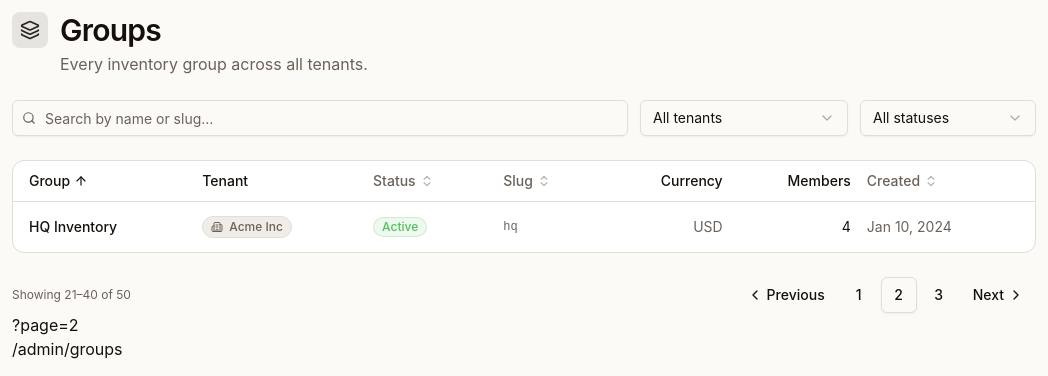
it: AdminGroupsPage › clears the search via the clear button, dropping ?q and ?page from the URL
Expected: the text "HQ Inventory" is shown, [29,218,117,234]
Type "warehouse" into the field with test id "admin-groups-search".
click(320, 118); type("warehouse")  # box [12,100,628,136]
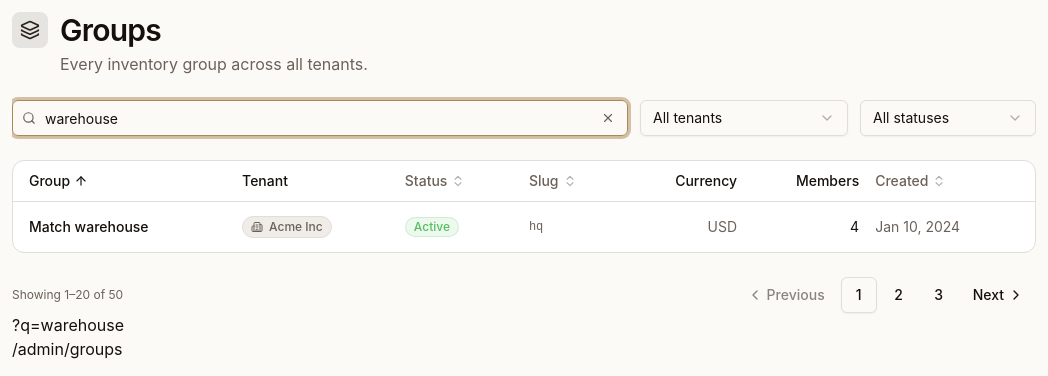
Click the button named "Clear search".
click(608, 118)  # box [594,104,622,132]
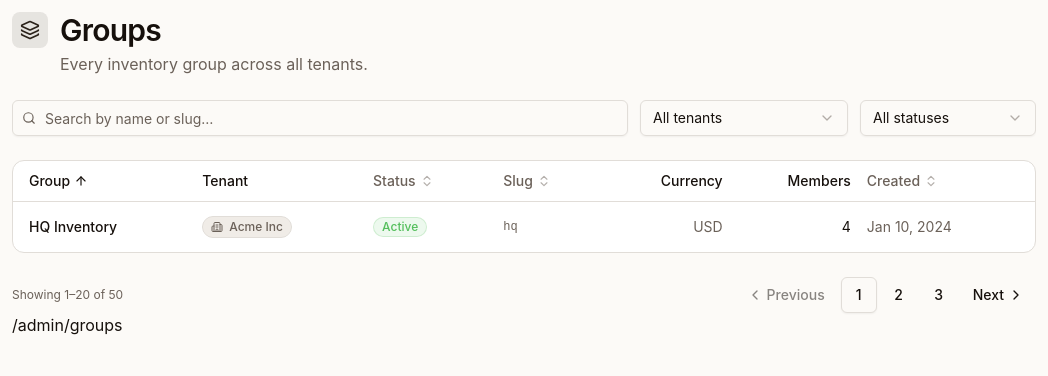
Now the field with test id "admin-groups-search" is empty, box [12,100,628,136]
